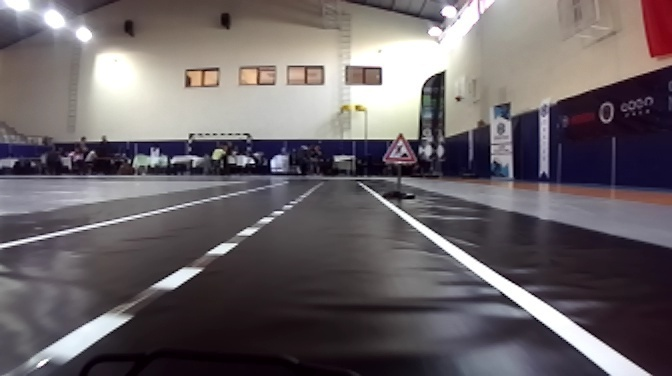yol_yapimi: (378, 133, 417, 163)
